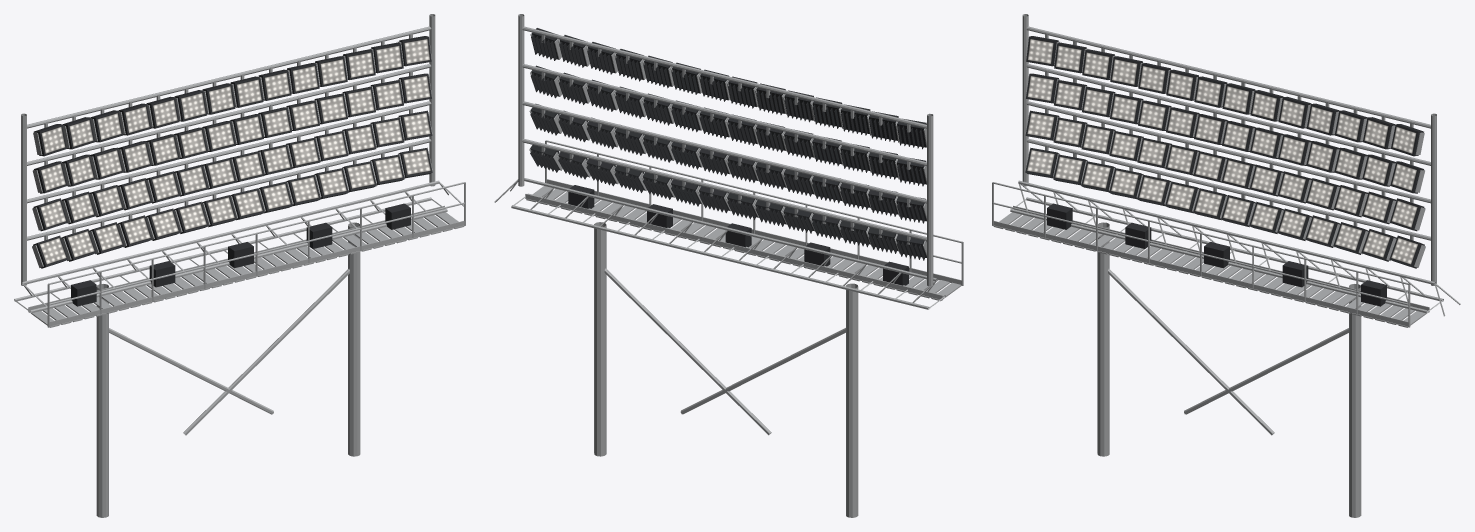
The model's file is light_bank_lod0.glb.
3 views of the same model, side by side, from view 1: azimuth 30°, elevation 25°; view 2: azimuth 150°, elevation 25°; view 3: azimuth 330°, elevation 25° (orthographic).
Parts seen in each view (by area): view 1: light_bank_lod0_steel, light_bank_lod0_lens, light_bank_lod0_housing; view 2: light_bank_lod0_steel, light_bank_lod0_housing; view 3: light_bank_lod0_steel, light_bank_lod0_lens, light_bank_lod0_housing.
Part boxes in pixels (x1,y1,x2,y2): light_bank_lod0_steel: [14, 14, 465, 517]; light_bank_lod0_lens: [39, 38, 430, 264]; light_bank_lod0_housing: [33, 36, 432, 306]; light_bank_lod0_steel: [494, 14, 963, 517]; light_bank_lod0_housing: [530, 28, 926, 285]; light_bank_lod0_steel: [992, 14, 1460, 517]; light_bank_lod0_lens: [1027, 38, 1418, 264]; light_bank_lod0_housing: [1025, 36, 1424, 306].
Bounding box in the file's own units: 11.13 × 10.26 × 1.56.
Materials: 3 (1 with a texture image).
